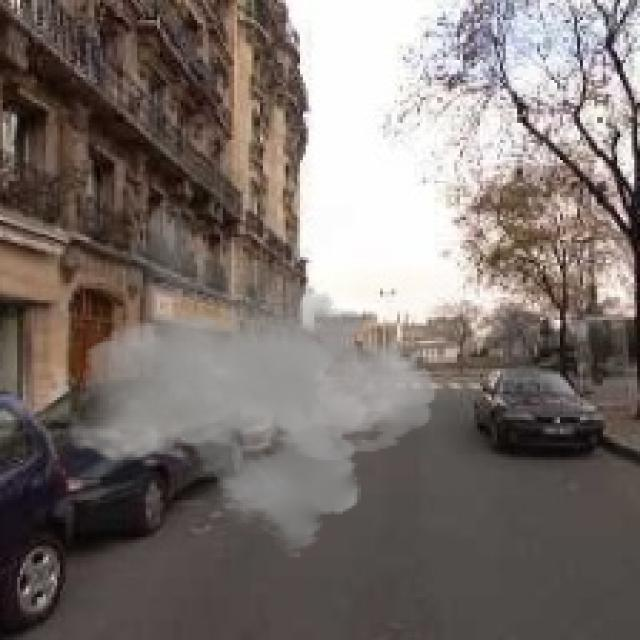smoke: (66, 197, 437, 560)
